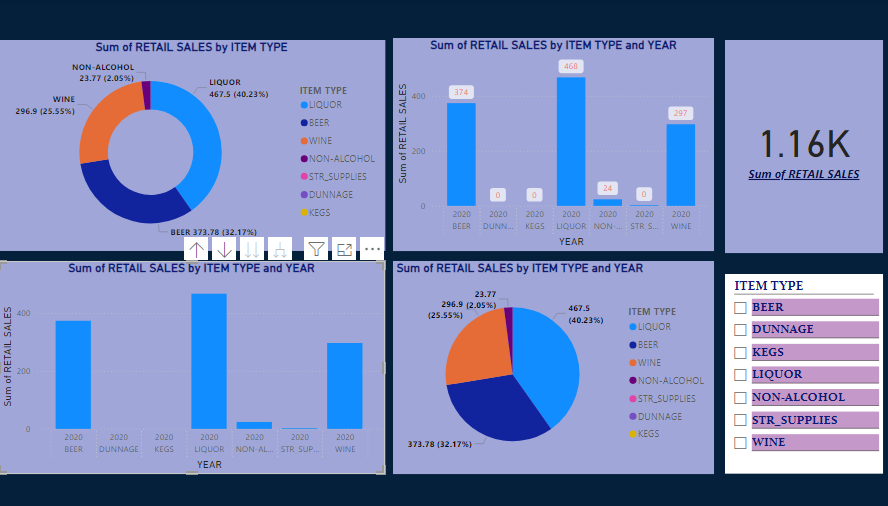

The dashboard page shown, as its layout file describes it:
{"tool":"powerbi","page":{"name":"Alcohol Sales Data","canvas":[1280,720],"ordinal":0},"visuals":[{"type":"donutChart","fields":{"Category":["Retail and wherehouse Sale.ITEM TYPE"],"Y":["Sum(Retail and wherehouse Sale.RETAIL SALES)"]},"box":[0,58.1,548.5,299.1],"z":0},{"type":"lineStackedColumnComboChart","fields":{"Category":["Retail and wherehouse Sale.ITEM TYPE","Retail and wherehouse Sale.YEAR"],"Y":["Sum(Retail and wherehouse Sale.RETAIL SALES)"]},"box":[559.8,55.3,455,301.9],"z":1000},{"type":"pieChart","fields":{"Y":["Sum(Retail and wherehouse Sale.RETAIL SALES)"],"Category":["Retail and wherehouse Sale.ITEM TYPE"],"Series":["Retail and wherehouse Sale.YEAR"]},"box":[559.8,371.3,455,301.9],"z":2000},{"type":"lineStackedColumnComboChart","fields":{"Category":["Retail and wherehouse Sale.ITEM TYPE","Retail and wherehouse Sale.YEAR"],"Y":["Sum(Retail and wherehouse Sale.RETAIL SALES)"]},"box":[0,371.3,548.5,301.9],"z":3000},{"type":"slicer","fields":{"Values":["Retail and wherehouse Sale.ITEM TYPE"]},"box":[1030.4,396.9,225.4,252.3],"z":4000},{"type":"card","fields":{"Values":["Sum(Retail and wherehouse Sale.RETAIL SALES)"]},"box":[1030.4,58.1,223.9,301.9],"z":5000}]}

Visuals, with their boxes in screenshot pixels (x1, y1, x2, y2):
donutChart - Retail and wherehouse Sale.ITEM TYPE x Sum(Retail and wherehouse Sale.RETAIL SALES): BBox(0, 37, 382, 249)
lineStackedColumnComboChart - Retail and wherehouse Sale.ITEM TYPE x Retail and wherehouse Sale.YEAR: BBox(390, 35, 713, 249)
pieChart - Sum(Retail and wherehouse Sale.RETAIL SALES) x Retail and wherehouse Sale.ITEM TYPE: BBox(390, 259, 713, 473)
lineStackedColumnComboChart - Retail and wherehouse Sale.ITEM TYPE x Retail and wherehouse Sale.YEAR: BBox(0, 259, 382, 473)
slicer - Retail and wherehouse Sale.ITEM TYPE: BBox(724, 277, 884, 456)
card - Sum(Retail and wherehouse Sale.RETAIL SALES): BBox(724, 37, 883, 251)
